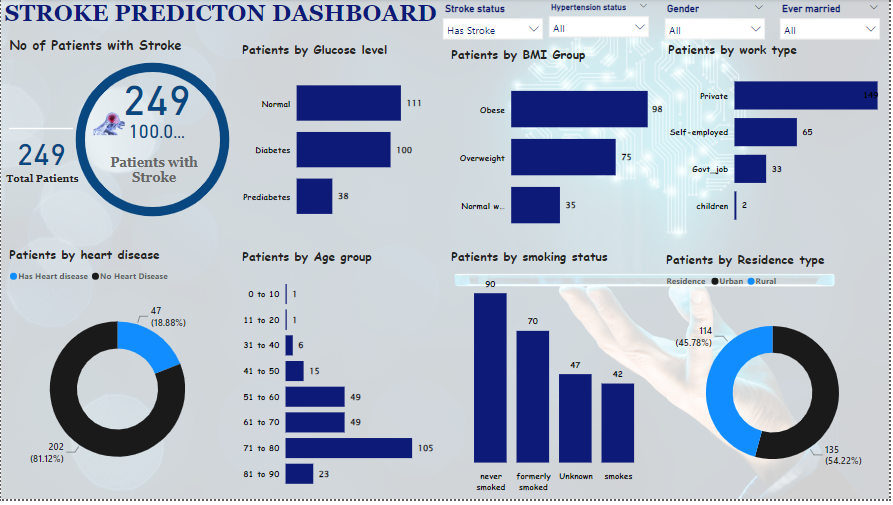

What the dashboard file says about the page in this screenshot:
{"tool":"powerbi","page":{"name":"Duplicate of Stroke prediction","canvas":[1280,720],"ordinal":3},"visuals":[{"type":"textbox","title":"STROKE PREDICTON DASHBOARD","box":[155.5,0,668.2,44.6],"z":0},{"type":"image","box":[128.2,154.1,54.7,51.8],"z":1000},{"type":"donutChart","fields":{"Category":["healthcare-dataset-stroke-data.stroke"],"Y":["CountNonNull(healthcare-dataset-stroke-data.id)"]},"box":[67.7,59,301,286.6],"z":2000},{"type":"card","fields":{"Values":["Measures (2).Stroke"]},"box":[142.6,100.8,164.2,73.4],"z":3000},{"type":"card","fields":{"Values":["Measures (2).% Stroke"]},"box":[174.2,158.4,99.4,60.5],"z":4000},{"type":"textbox","title":"Patients with ","box":[145.4,220.3,149.8,64.8],"z":5000},{"type":"textbox","title":"No of Patients with Stroke","box":[7.2,51.8,279.4,31.7],"z":6000},{"type":"shape","box":[11.5,180,92.2,13],"z":7000},{"type":"card","fields":{"Values":["Measures (2).Total Patients"]},"box":[1.4,182.9,113.8,73.4],"z":8000},{"type":"textbox","title":"Total Patients","box":[0,250.6,119.5,23],"z":9000},{"type":"slicer","fields":{"Values":["healthcare-dataset-stroke-data.stroke"]},"box":[779,0,164.2,64.8],"z":10000},{"type":"slicer","fields":{"Values":["healthcare-dataset-stroke-data.gender"]},"box":[945.4,0,164.2,64.8],"z":11000},{"type":"clusteredBarChart","title":"Patients by BMI Group","fields":{"Y":["Measures (2).Total Patients"],"Category":["healthcare-dataset-stroke-data.BMI Grouping"]},"box":[1.4,331.2,367.2,388.8],"z":12000},{"type":"slicer","fields":{"Values":["healthcare-dataset-stroke-data.ever_married"]},"box":[1111.7,0,164.2,64.8],"z":13000},{"type":"textbox","box":[368.6,67.7,492.5,511.2],"z":13001},{"type":"qnaVisual","title":"Question and Answer","box":[878.4,73.4,381.6,616.3],"z":13002}]}

Visuals, with their boxes in screenshot pixels (x1, y1, x2, y2), scaled from the page's 1280x720 canvas onto the 893x505 screenshot:
"STROKE PREDICTON DASHBOARD" textbox: box(108, 0, 575, 31)
image: box(89, 108, 128, 144)
donutChart - healthcare-dataset-stroke-data.stroke x CountNonNull(healthcare-dataset-stroke-data.id): box(47, 41, 257, 242)
card - Measures (2).Stroke: box(99, 71, 214, 122)
card - Measures (2).% Stroke: box(122, 111, 191, 154)
"Patients with " textbox: box(101, 155, 206, 200)
"No of Patients with Stroke" textbox: box(5, 36, 200, 59)
shape: box(8, 126, 72, 135)
card - Measures (2).Total Patients: box(1, 128, 80, 180)
"Total Patients" textbox: box(0, 176, 83, 192)
slicer - healthcare-dataset-stroke-data.stroke: box(543, 0, 658, 45)
slicer - healthcare-dataset-stroke-data.gender: box(660, 0, 774, 45)
"Patients by BMI Group" clusteredBarChart: box(1, 232, 257, 504)
slicer - healthcare-dataset-stroke-data.ever_married: box(776, 0, 890, 45)
textbox: box(257, 47, 601, 406)
"Question and Answer" qnaVisual: box(613, 51, 879, 484)
